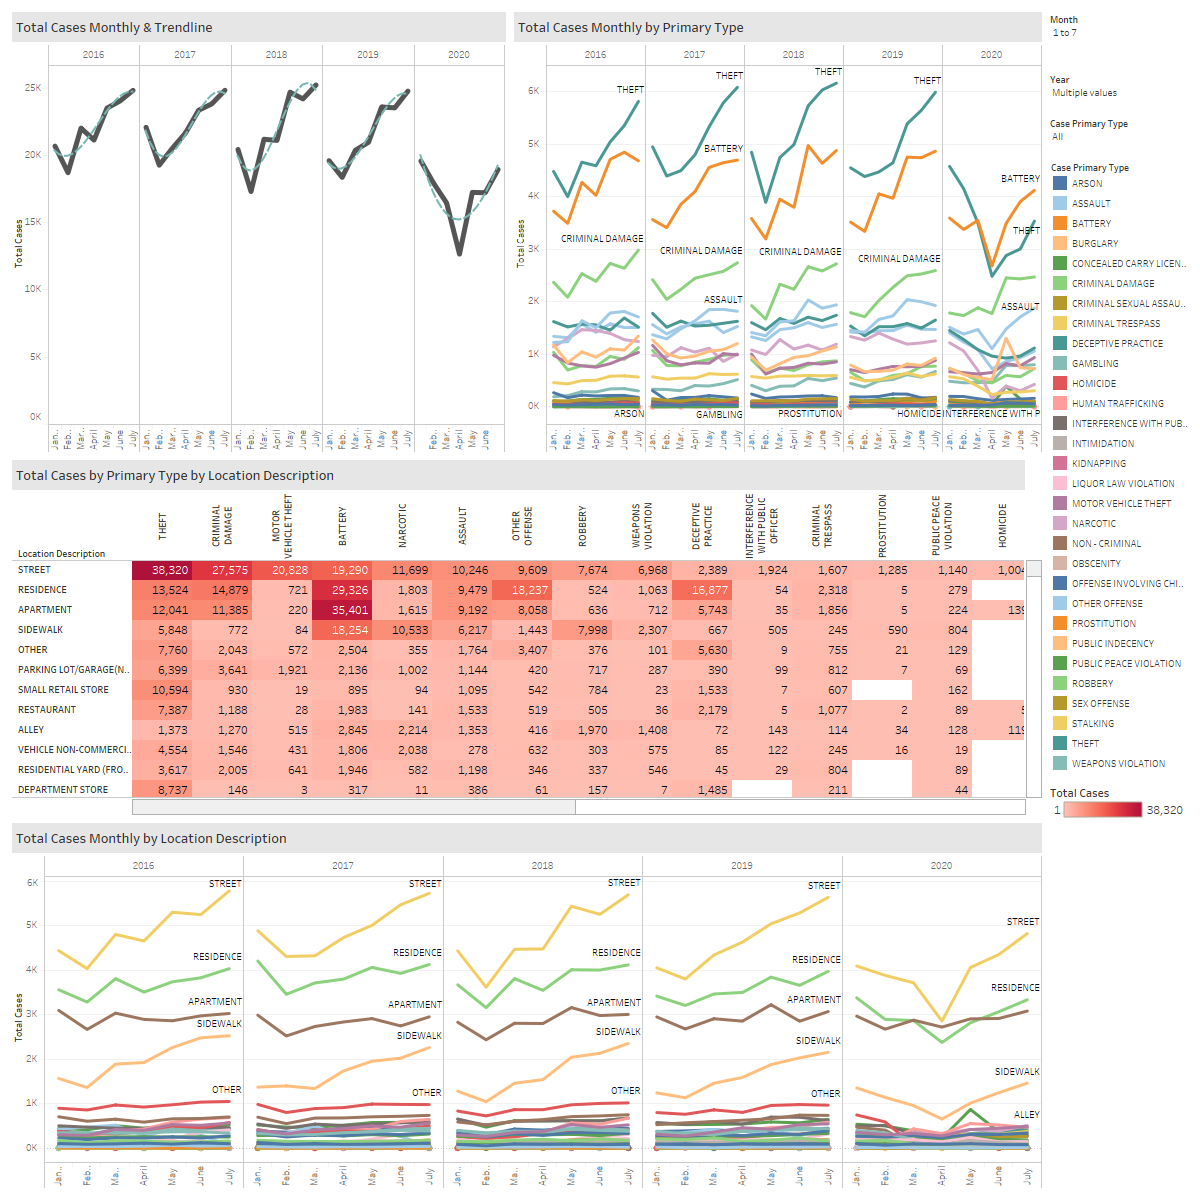

This screenshot's page, from the dashboard's own definition file:
{"tool":"tableau","page":{"name":"Total Cases","canvas":[1200,1200],"ordinal":1},"visuals":[{"type":"worksheet","box":[0,0,1200,1200]},{"type":"worksheet","param":"horz","box":[8,8,1184,1184]},{"type":"worksheet","box":[8,8,1038,1184]},{"type":"worksheet","title":"Total Cases Monthly & Trendline","mark":"Line","rows":["duplicate_sign"],"cols":["date","date"],"box":[8,8,501.5,447.7]},{"type":"worksheet","title":"Total Cases Monthly by Primary Type","mark":"Automatic","rows":["duplicate_sign"],"cols":["date","date"],"box":[509.5,8,536.5,447.7]},{"type":"worksheet","param":"vert","box":[1046,8,146,1184]},{"type":"worksheet","title":"Total Cases by Type by Location","mark":"Square","rows":["location_description"],"cols":["primary_type_clean"],"param":"[federated.02uvfn11l44j1b16vrfda0fwkby9].[none:month:qk]","box":[1046,8,146,60]},{"type":"worksheet","title":"Total Cases by Type by Location","mark":"Square","rows":["location_description"],"cols":["primary_type_clean"],"param":"[federated.02uvfn11l44j1b16vrfda0fwkby9].[none:year:ok]","box":[1046,68,146,44]},{"type":"worksheet","title":"Total Cases by Type by Location","mark":"Square","rows":["location_description"],"cols":["primary_type_clean"],"param":"[federated.02uvfn11l44j1b16vrfda0fwkby9].[none:primary_type_clean:nk]","box":[1046,112,146,43]},{"type":"worksheet","title":"Total Cases Monthly by Primary Type","mark":"Automatic","rows":["duplicate_sign"],"cols":["date","date"],"param":"[federated.02uvfn11l44j1b16vrfda0fwkby9].[none:primary_type_clean:nk]","box":[1046,155,146,622]},{"type":"worksheet","title":"Total Cases by Type by Location","mark":"Square","rows":["location_description"],"cols":["primary_type_clean"],"box":[8,455.7,1038,362.9]},{"type":"worksheet","title":"Total Cases by Type by Location","mark":"Square","rows":["location_description"],"cols":["primary_type_clean"],"param":"[federated.02uvfn11l44j1b16vrfda0fwkby9].[sum:duplicate_sign:qk]","box":[1046,777,146,62]},{"type":"worksheet","title":"Total Cases by Location Description","mark":"Automatic","rows":["duplicate_sign"],"cols":["date","date"],"box":[8,818.6,1038,373.4]}]}

Visuals, with their boxes in screenshot pixels (x1, y1, x2, y2), scaled from the page's 1200x1200 canvas onto the 1200x1200 screenshot:
worksheet: [x1=0, y1=0, x2=1199, y2=1199]
worksheet: [x1=8, y1=8, x2=1192, y2=1192]
worksheet: [x1=8, y1=8, x2=1046, y2=1192]
"Total Cases Monthly & Trendline" worksheet (Line marks): [x1=8, y1=8, x2=510, y2=456]
"Total Cases Monthly by Primary Type" worksheet: [x1=510, y1=8, x2=1046, y2=456]
worksheet: [x1=1046, y1=8, x2=1192, y2=1192]
"Total Cases by Type by Location" worksheet (Square marks): [x1=1046, y1=8, x2=1192, y2=68]
"Total Cases by Type by Location" worksheet (Square marks): [x1=1046, y1=68, x2=1192, y2=112]
"Total Cases by Type by Location" worksheet (Square marks): [x1=1046, y1=112, x2=1192, y2=155]
"Total Cases Monthly by Primary Type" worksheet: [x1=1046, y1=155, x2=1192, y2=777]
"Total Cases by Type by Location" worksheet (Square marks): [x1=8, y1=456, x2=1046, y2=819]
"Total Cases by Type by Location" worksheet (Square marks): [x1=1046, y1=777, x2=1192, y2=839]
"Total Cases by Location Description" worksheet: [x1=8, y1=819, x2=1046, y2=1192]
